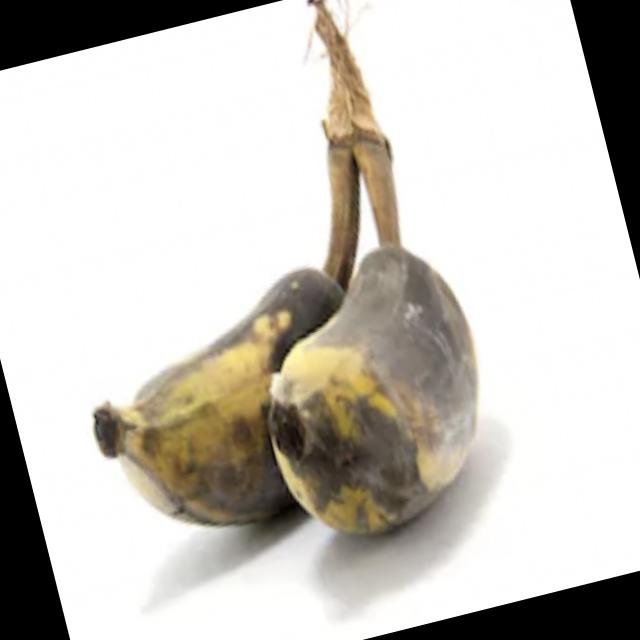rotten-banana: (253, 251, 546, 590), (79, 270, 354, 553)
